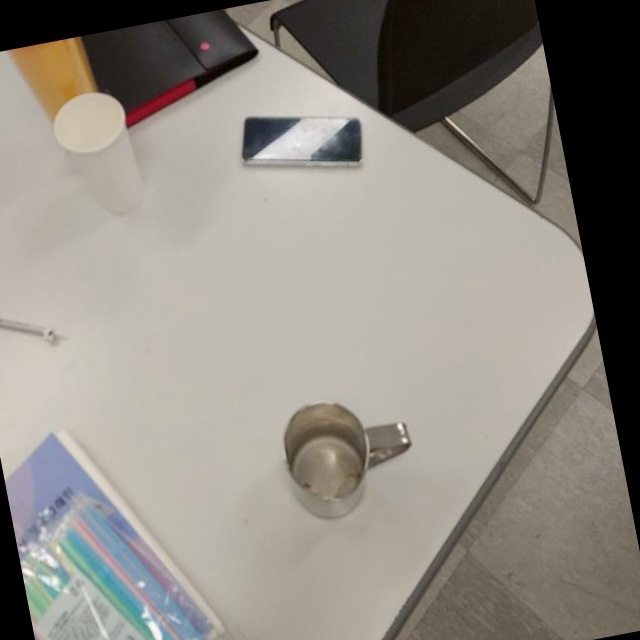cup: (274, 385, 423, 527)
phone: (233, 96, 371, 192)
